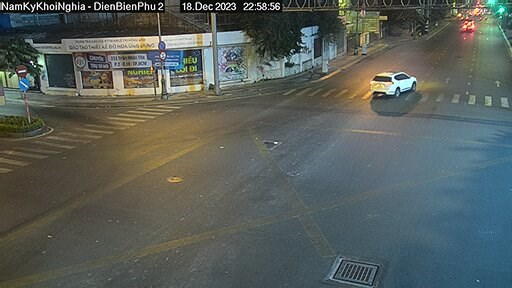car: (369, 67, 419, 98)
